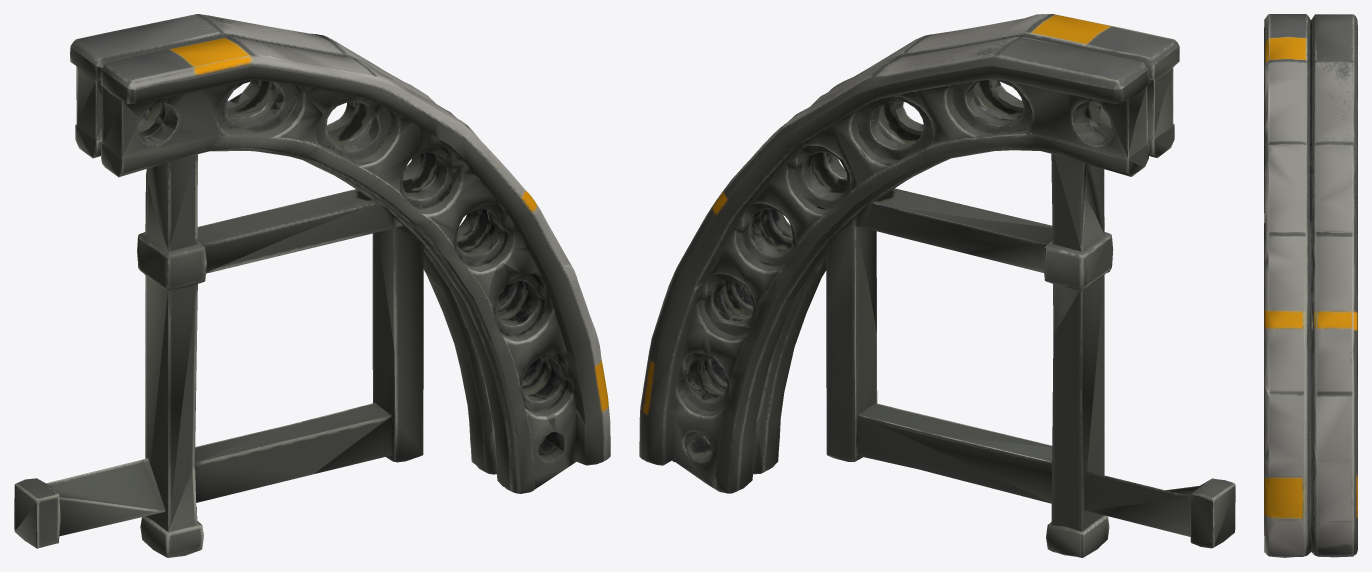
File: 07_hull_curved_rib.fbx
The picture shows the model from 3 angles, left to right: view 1: azimuth 30°, elevation 25°; view 2: azimuth 150°, elevation 25°; view 3: azimuth 270°, elevation 25°; orthographic projection. The views are drawn at different scales.
Parts seen in each view (by area): view 1: 07_hull_curved_rib; view 2: 07_hull_curved_rib; view 3: 07_hull_curved_rib.
Boxes of the visible parts, x1,y1,x2,y2 form: 07_hull_curved_rib: (14, 14, 610, 557); 07_hull_curved_rib: (639, 14, 1235, 557); 07_hull_curved_rib: (1264, 14, 1357, 557).
Bounding box in the file's own units: 3 × 2.65 × 0.5853.
1 material, 1 textured.
